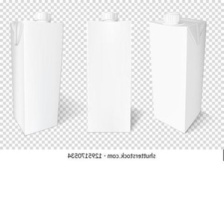carton: (145, 9, 209, 135), (5, 11, 67, 139), (77, 8, 136, 136)
